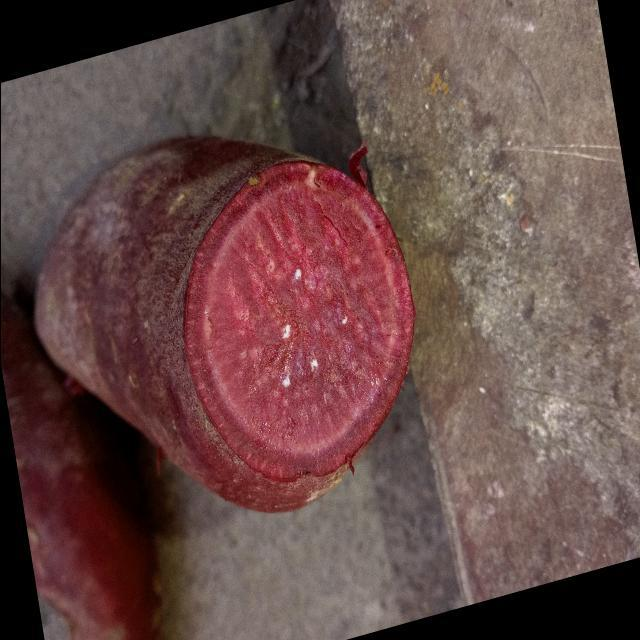Healthy Sweet Potato: (184, 162, 414, 482)
